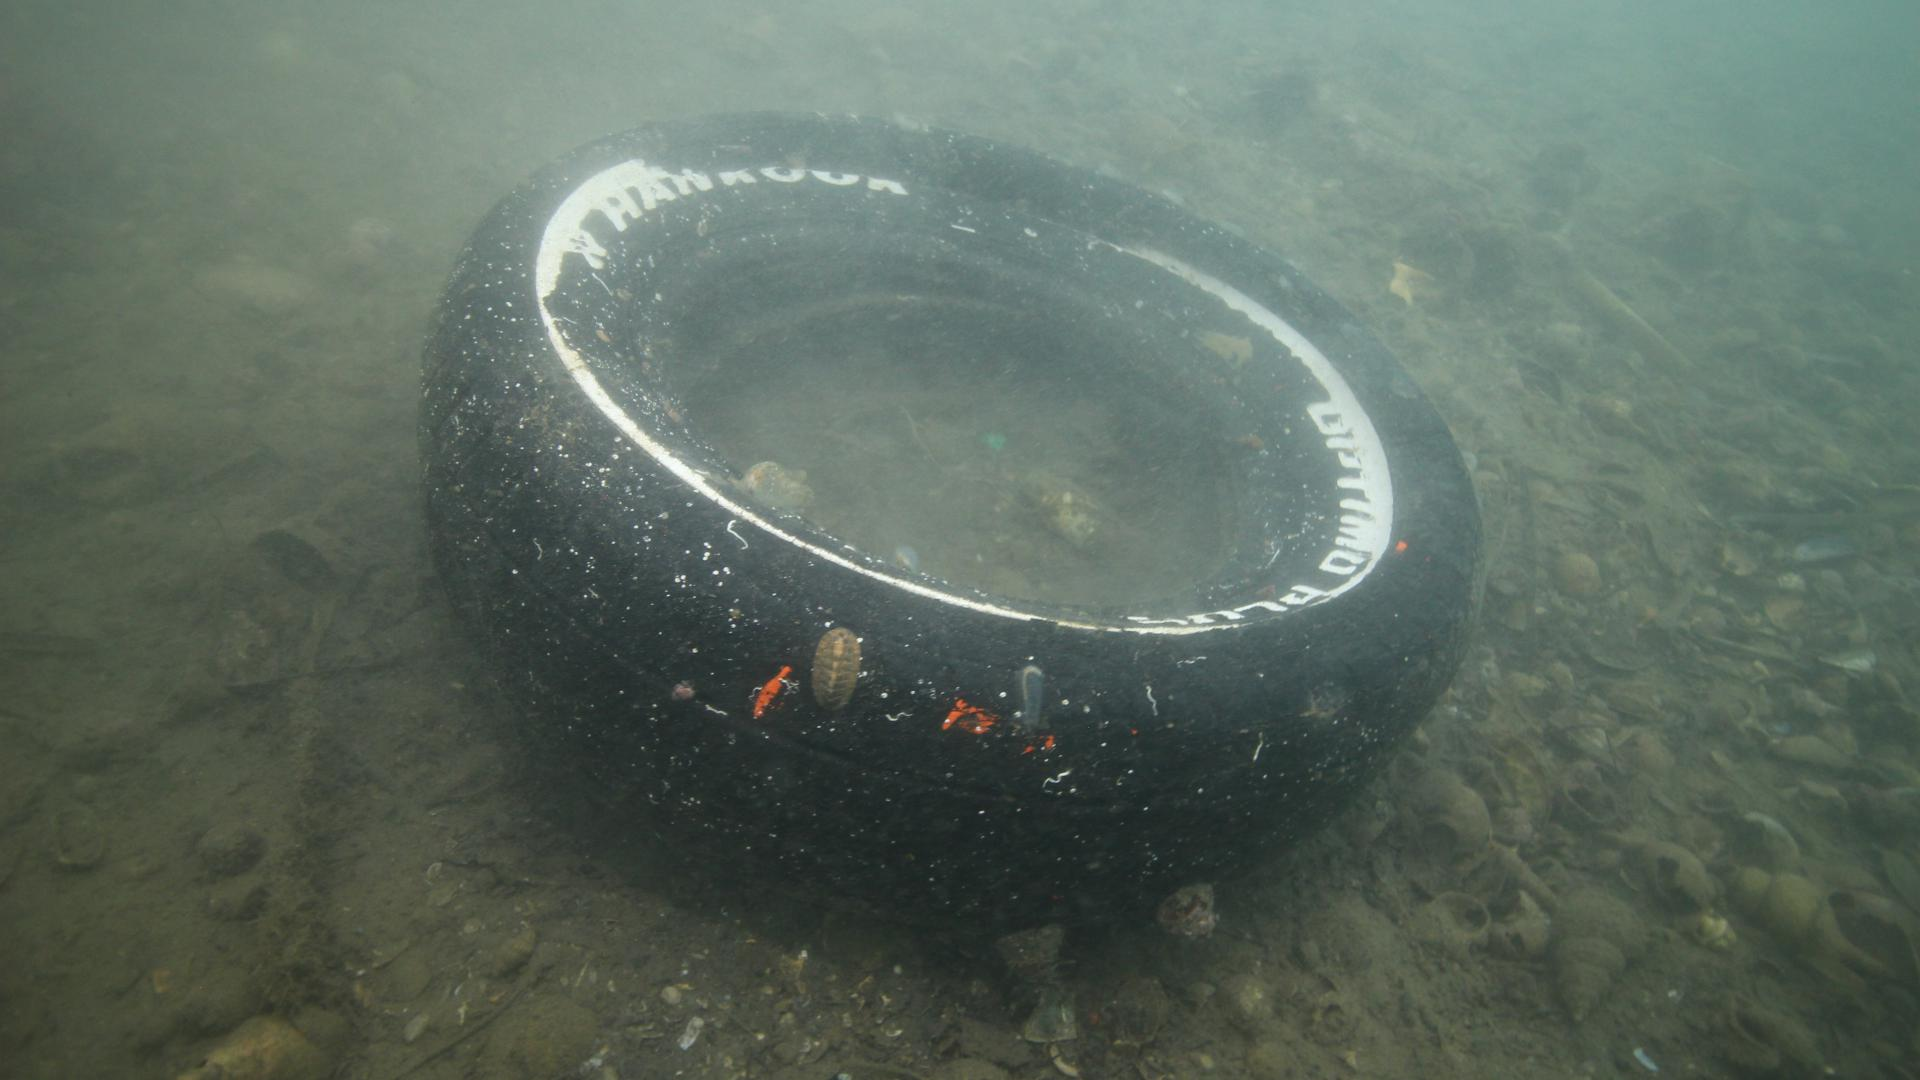tire: (414, 107, 1484, 934)
